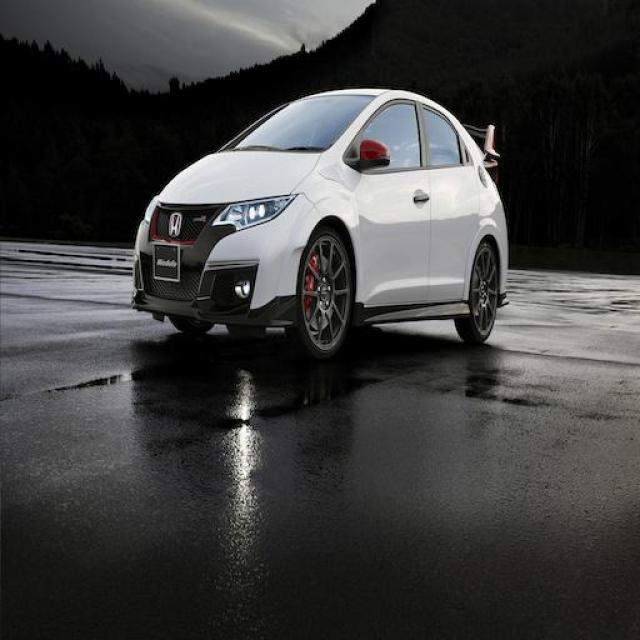back_left_door: (421, 101, 479, 300)
front_bumper: (133, 191, 319, 328)
front_glass: (220, 95, 375, 153)
front_left_door: (344, 100, 430, 303)
front_left_light: (210, 193, 300, 231)
front_right_light: (141, 193, 158, 222)
hood: (160, 150, 319, 204)
left_mirror: (356, 139, 392, 171)
wheel: (299, 226, 500, 358)
